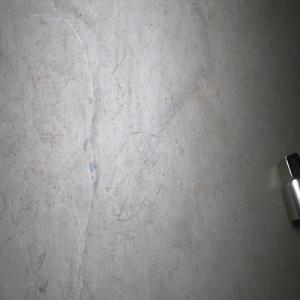MetalPart: (276, 151, 300, 223)
